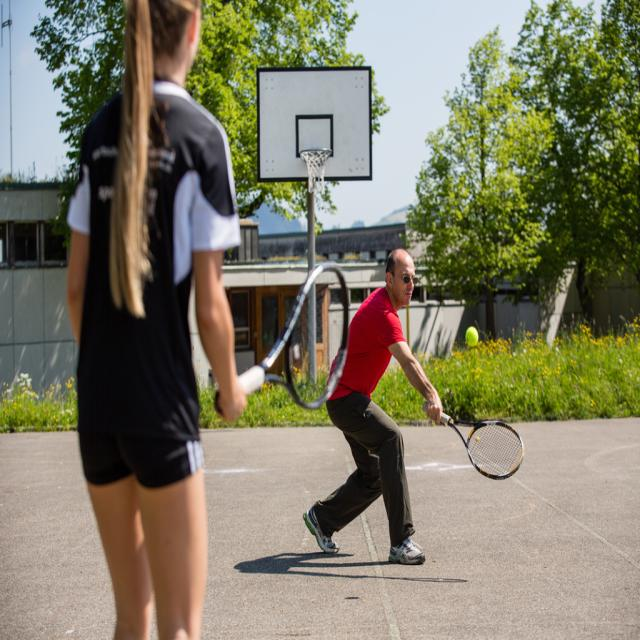Tennis ball: (464, 322, 480, 347)
